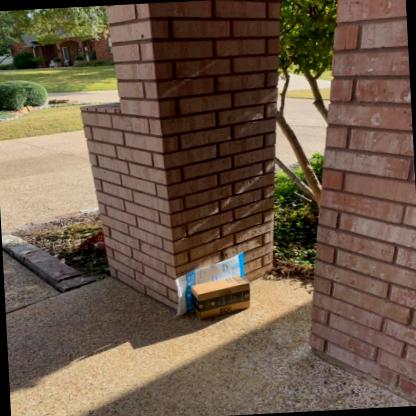box: (187, 276, 254, 322)
plastic_bag: (173, 248, 245, 317)
